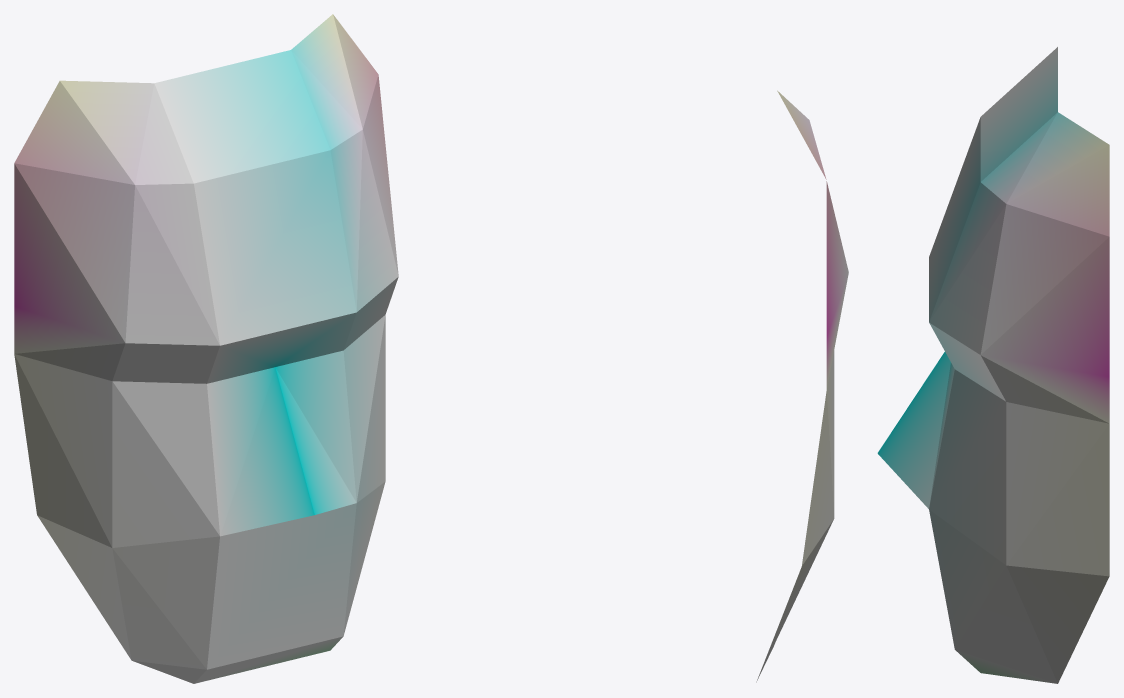
3 views of the same model, side by side, from view 1: azimuth 30°, elevation 25°; view 2: azimuth 150°, elevation 25°; view 3: azimuth 270°, elevation 25° (orthographic). The views are drawn at different scales.
Visible parts, largest first — view 1: model_1414; view 2: model_1414; view 3: model_1414.
Boxes of the visible parts, left/top/right/bottom form: model_1414: left=14, top=14, right=398, bottom=683; model_1414: left=756, top=90, right=848, bottom=682; model_1414: left=877, top=47, right=1109, bottom=683.
Size of the model in its own units: 16 by 24 by 9.
